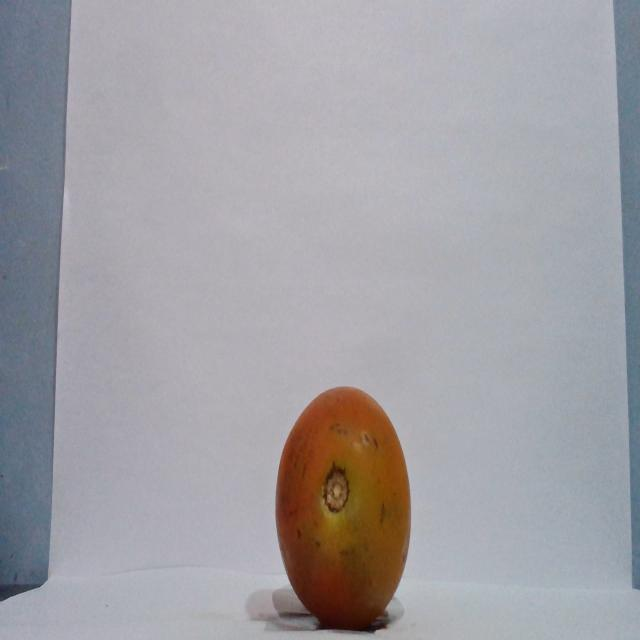Red: (273, 384, 412, 629)
